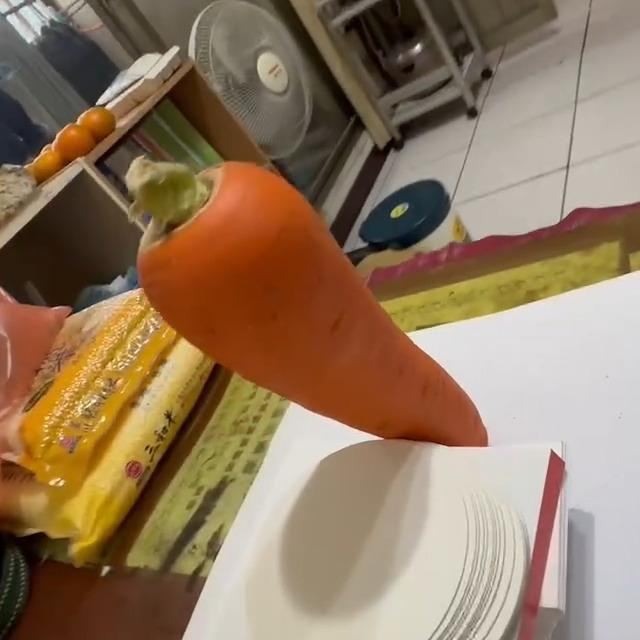carrot: (127, 156, 489, 457)
